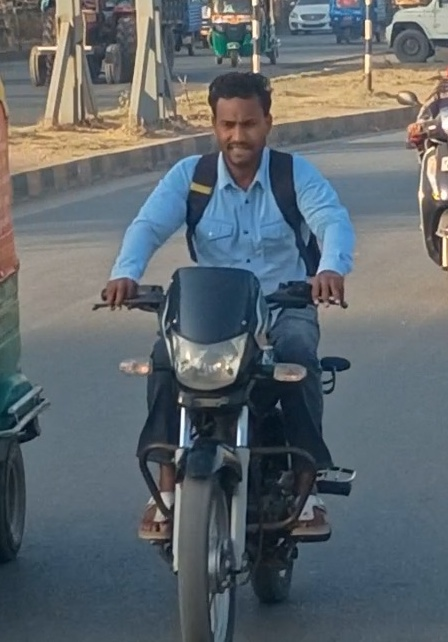BikeWithRider: (92, 69, 359, 642)
NoHelmet: (203, 71, 278, 168)
